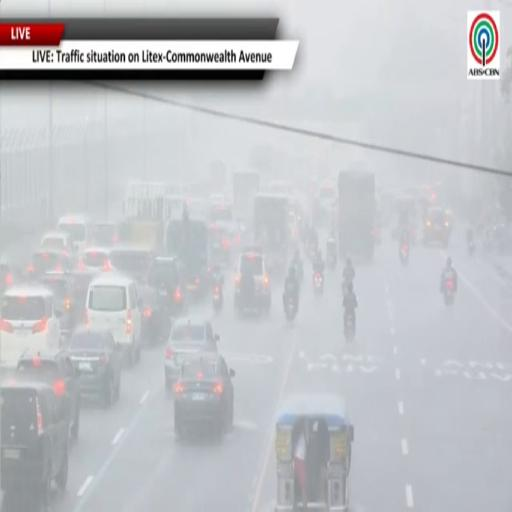car: (0, 379, 68, 511), (15, 349, 80, 442), (86, 272, 142, 365), (173, 354, 235, 436), (0, 284, 60, 366), (68, 326, 122, 407), (165, 318, 219, 390), (39, 272, 82, 335), (234, 248, 271, 313), (147, 256, 187, 316), (138, 285, 170, 345), (68, 269, 99, 321), (110, 247, 154, 281), (27, 249, 72, 278), (57, 215, 91, 252), (423, 207, 450, 247), (78, 247, 111, 270), (91, 221, 119, 247), (41, 231, 74, 253), (0, 261, 20, 293)
motorcycle: (344, 312, 355, 342), (285, 295, 297, 322), (444, 279, 455, 306), (213, 283, 223, 312), (313, 272, 323, 295), (326, 251, 336, 270), (400, 244, 409, 265), (308, 243, 317, 260), (468, 240, 475, 255), (342, 279, 348, 296)
truck: (165, 207, 209, 296), (337, 170, 375, 261), (118, 182, 164, 253), (254, 194, 290, 275), (232, 171, 260, 223)
